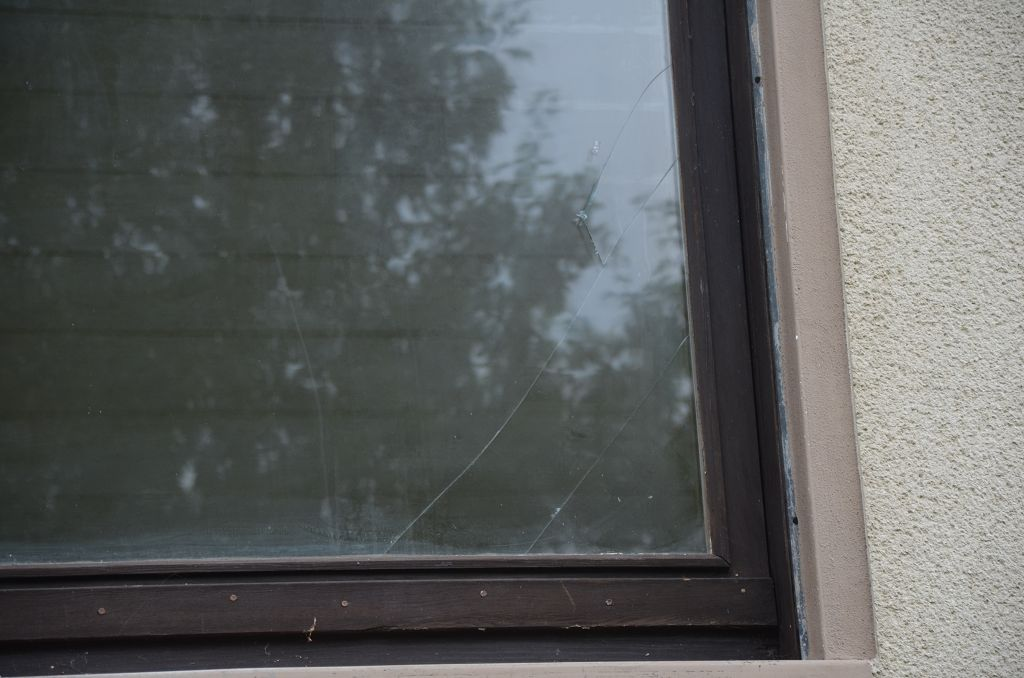windows: (2, 5, 809, 661)
